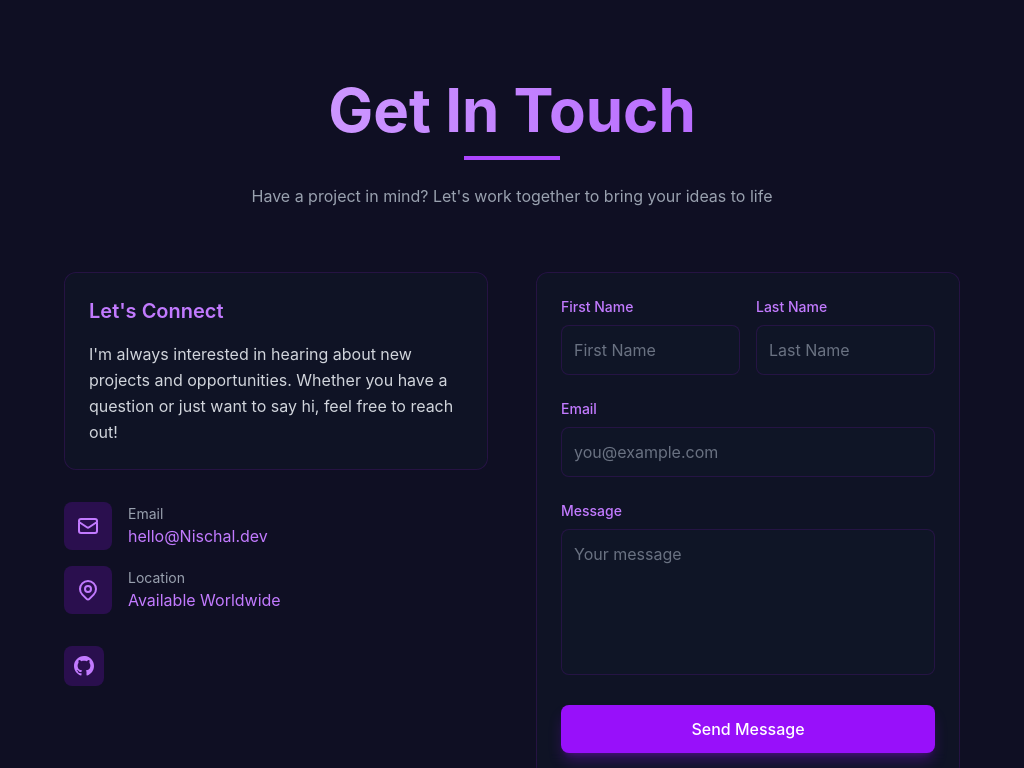
Test case: Contact Component › displays success message after successful submission
The width and height of the screenshot is (1024, 768).
In the field with placeholder "First Name": (650, 350) [561,325,740,375], type "John"
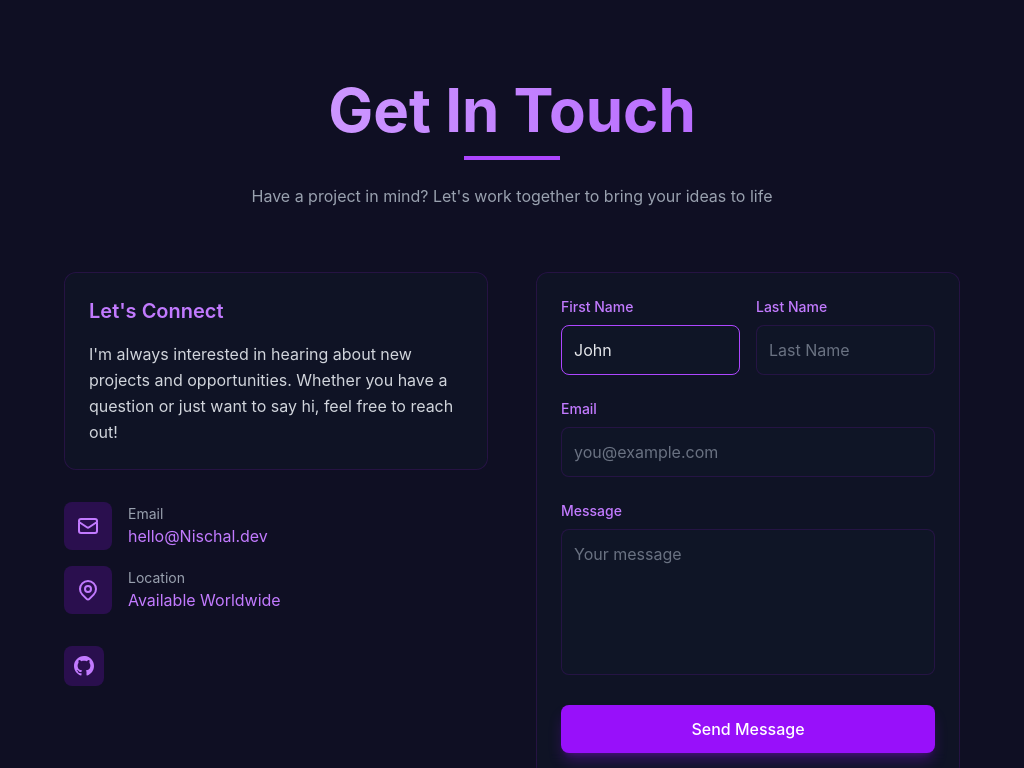
In the field with placeholder "Last Name": (846, 350) [756,325,935,375], type "Doe"
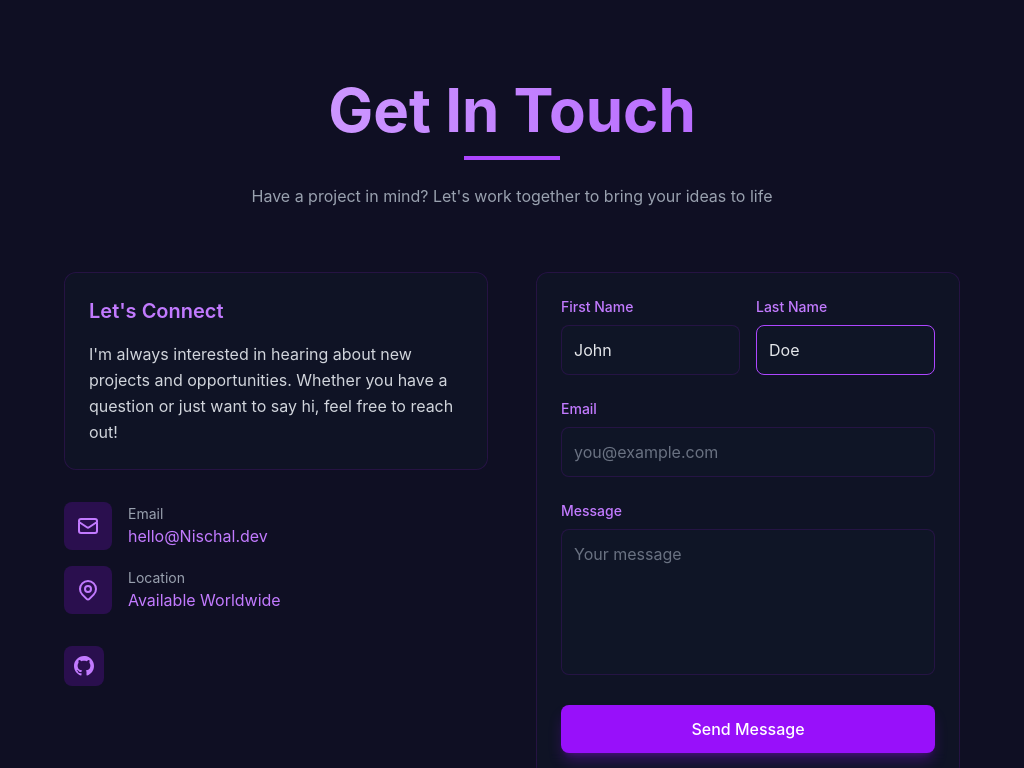
In the field with placeholder "you@example.com": (748, 452) [561,427,935,477], type "john@example.com"
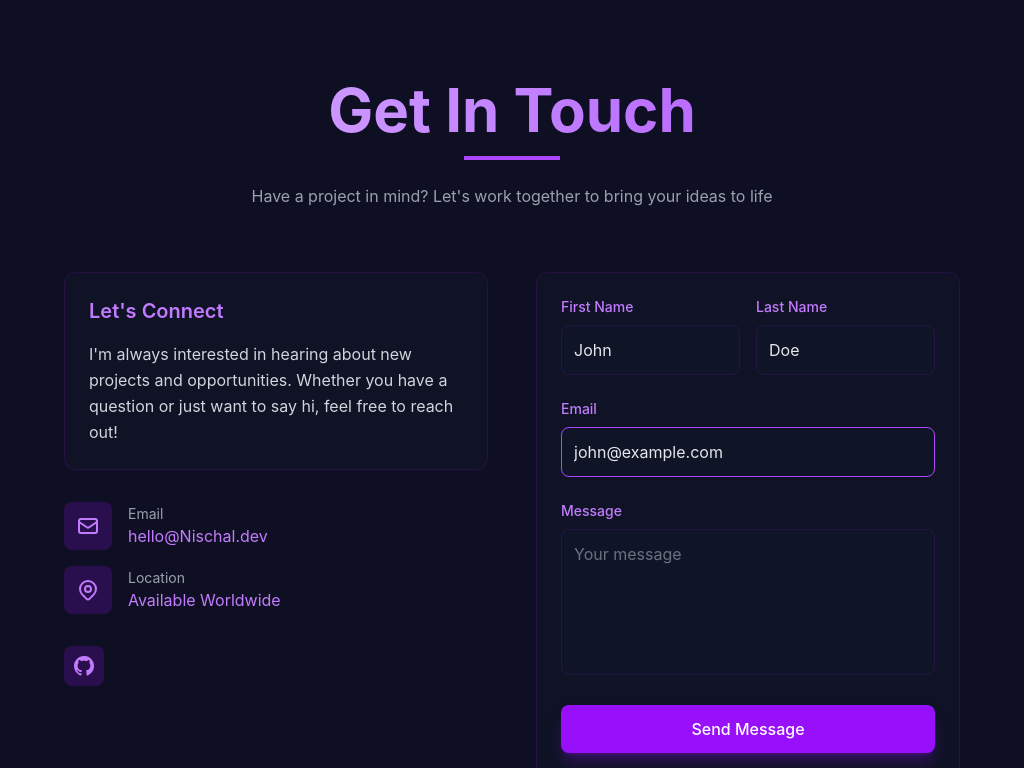
In the text box with placeholder "Your message": (748, 602) [561,529,935,675], type "Test message"
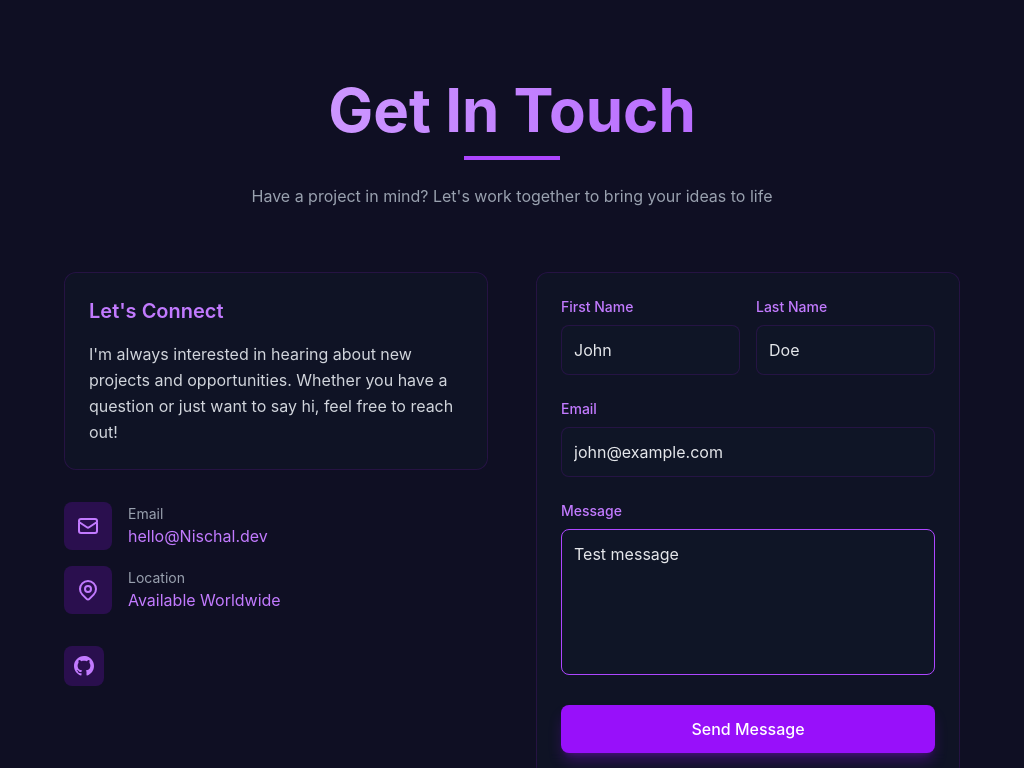
Click the button "Send Message": (748, 729) [561,705,935,753]
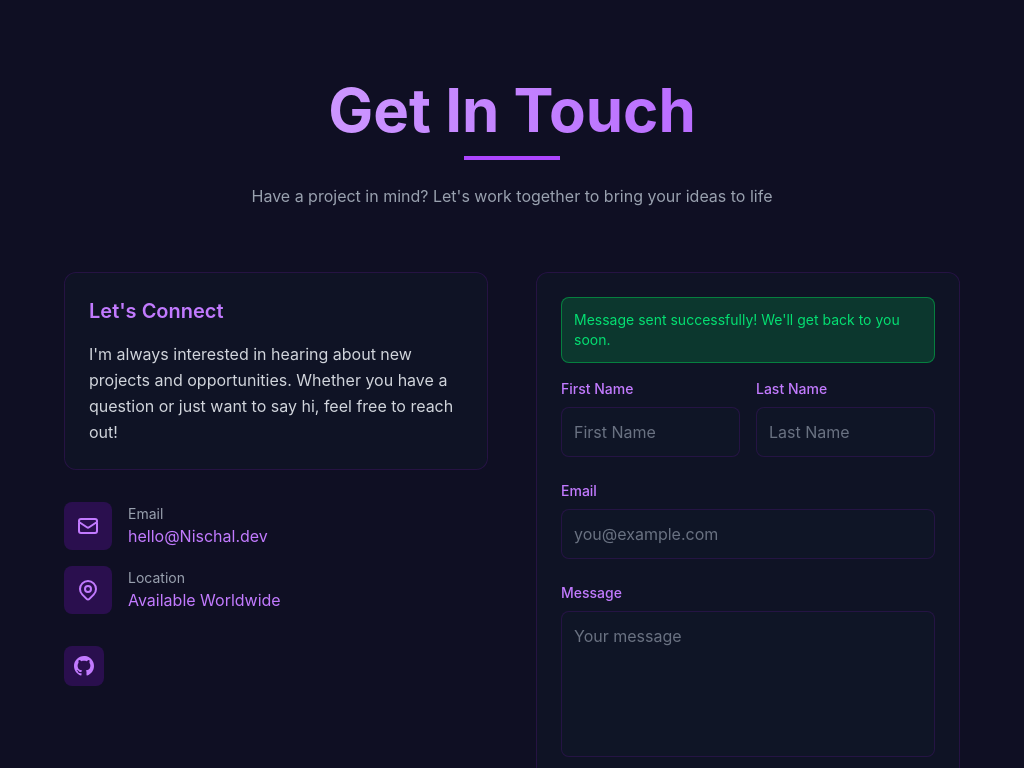
Now the text "Message sent successfully! We'll get back to you soon." is shown, box [561,297,935,363]
